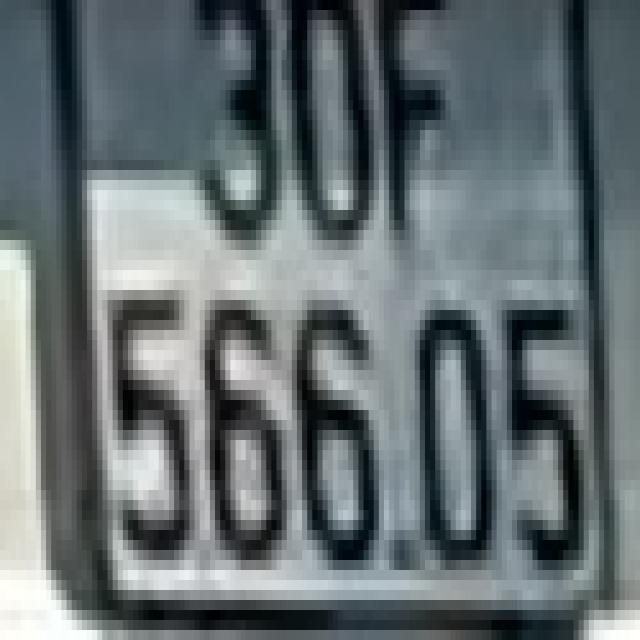0: (286, 0, 374, 240), (414, 300, 492, 570)
3: (190, 0, 282, 240)
5: (102, 280, 194, 560), (502, 300, 584, 570)
6: (297, 290, 379, 570), (204, 290, 282, 560)
F: (374, 0, 456, 240)
